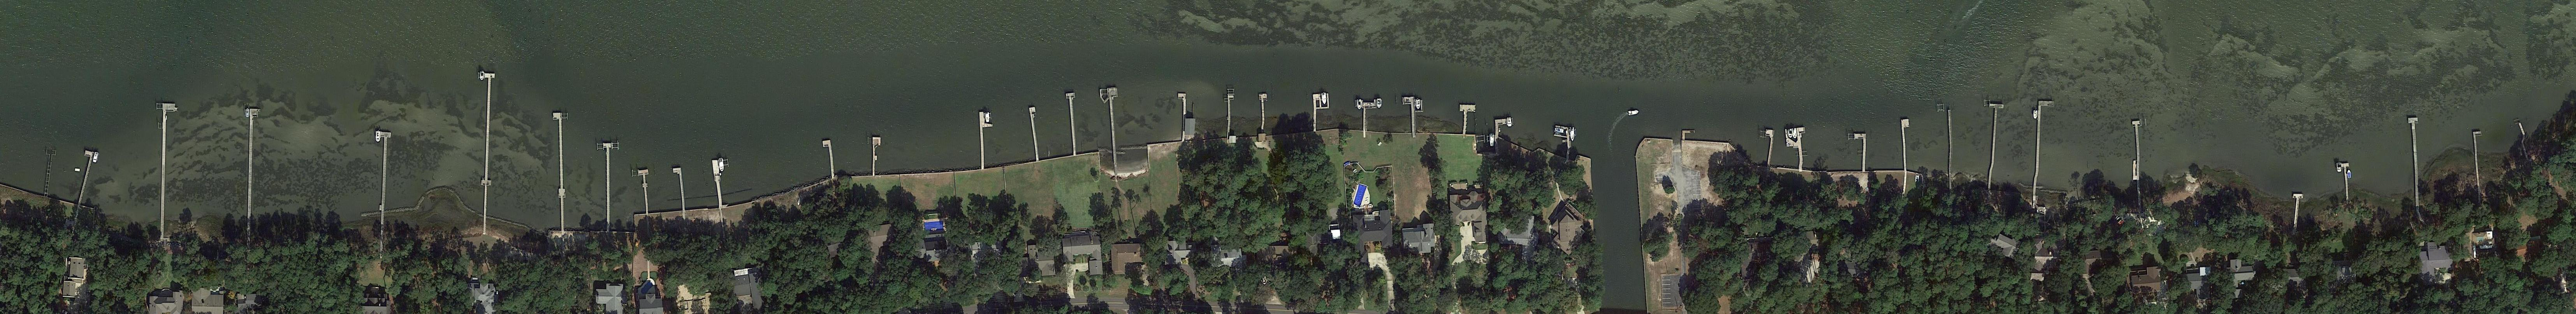harbor: (478, 74, 496, 214), (159, 104, 176, 229), (246, 109, 261, 229), (1101, 89, 1122, 171), (552, 113, 567, 230), (1983, 104, 2004, 182), (376, 132, 391, 230), (2035, 100, 2055, 173), (2408, 117, 2423, 207), (72, 150, 95, 205), (1784, 127, 1809, 164), (979, 112, 996, 166), (1309, 92, 1332, 130), (2131, 120, 2142, 196), (1549, 125, 1575, 158), (1403, 97, 1424, 135), (1178, 94, 1196, 135), (1066, 94, 1079, 150), (2472, 130, 2486, 186), (603, 143, 611, 225), (1028, 107, 1042, 158), (637, 169, 652, 214), (2514, 122, 2532, 158), (711, 159, 724, 209), (674, 168, 687, 210), (2288, 192, 2303, 230), (1459, 105, 1477, 135), (1902, 120, 1912, 171), (2339, 163, 2353, 201), (1362, 102, 1378, 132), (1763, 130, 1776, 166), (823, 140, 835, 179), (1855, 133, 1866, 171), (1258, 94, 1268, 130), (1227, 95, 1235, 136), (872, 136, 881, 174), (1495, 117, 1506, 140), (1948, 110, 1955, 148), (1682, 130, 1695, 140)
ship: (1569, 130, 1575, 143), (1321, 92, 1327, 105), (718, 158, 724, 171), (1628, 110, 1640, 117), (1554, 127, 1566, 133), (1506, 117, 1513, 128), (1414, 99, 1421, 110), (984, 112, 991, 123), (375, 130, 381, 141), (2032, 110, 2039, 120), (1490, 135, 1495, 146), (1357, 99, 1362, 110), (1377, 99, 1382, 109), (2346, 169, 2351, 179), (2336, 163, 2341, 173), (1787, 128, 1792, 138), (1792, 128, 1797, 138), (480, 71, 485, 81), (94, 153, 99, 163), (1916, 174, 1920, 182), (74, 168, 80, 173), (246, 109, 250, 118)
